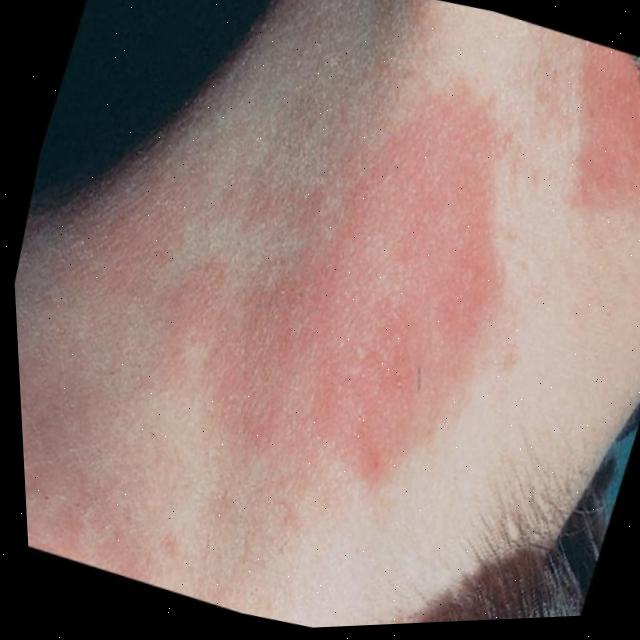Eczema: (3, 33, 531, 618), (558, 54, 640, 199)
